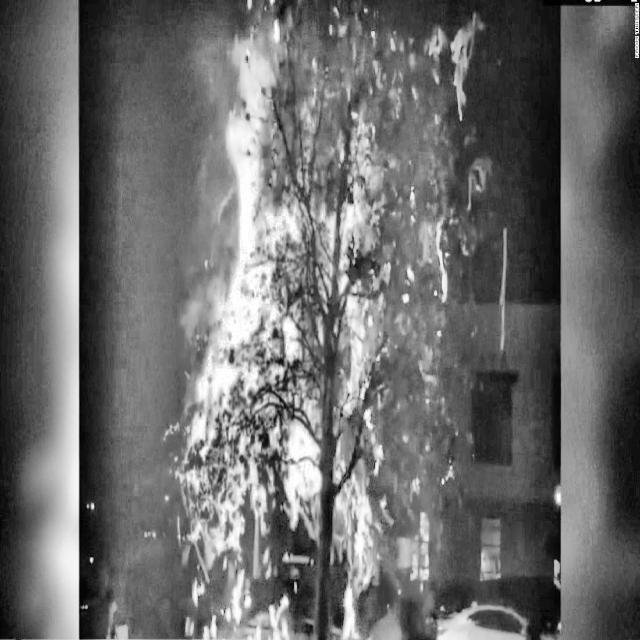fire: (232, 39, 376, 631)
